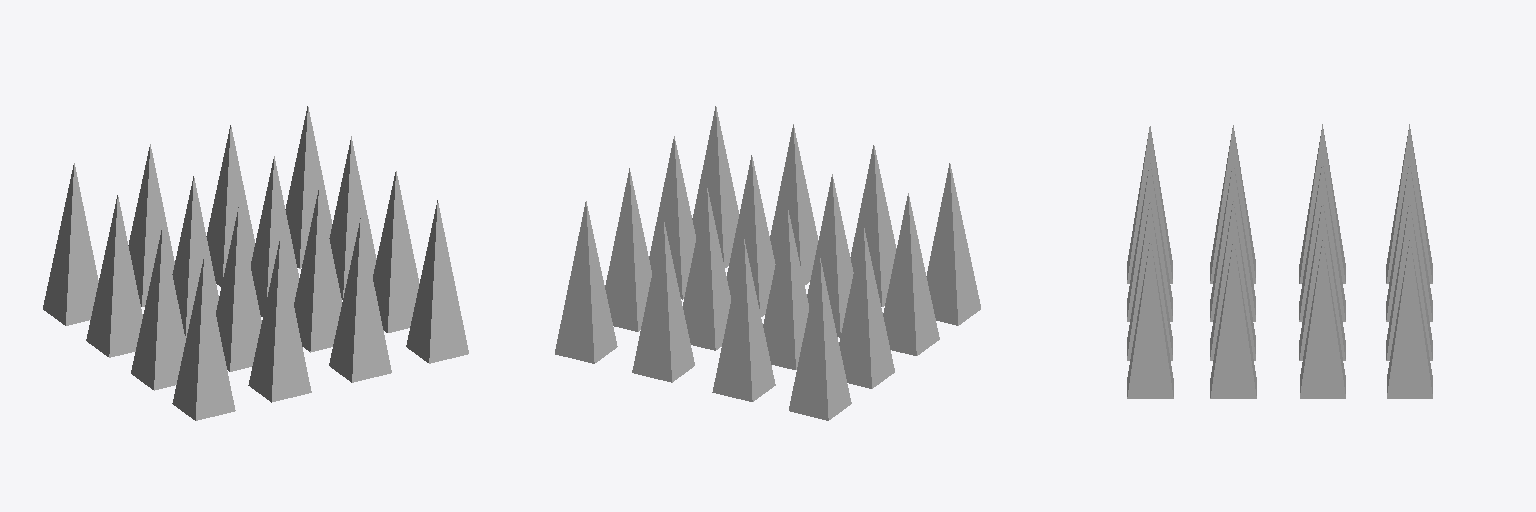
Rendered from strip.obj.
3 renders of one model, left to right at view 1: azimuth 30°, elevation 25°; view 2: azimuth 150°, elevation 25°; view 3: azimuth 270°, elevation 25°, orthographic.
Visible parts, largest first — view 1: npc_spiketrap_0; view 2: npc_spiketrap_0; view 3: npc_spiketrap_0.
Boxes of the visible parts, x1=… form: npc_spiketrap_0: x1=43, y1=106, x2=468, y2=420; npc_spiketrap_0: x1=555, y1=106, x2=980, y2=420; npc_spiketrap_0: x1=1127, y1=124, x2=1432, y2=398.
Size of the model in its own units: 1.85 by 0.9777 by 1.79.